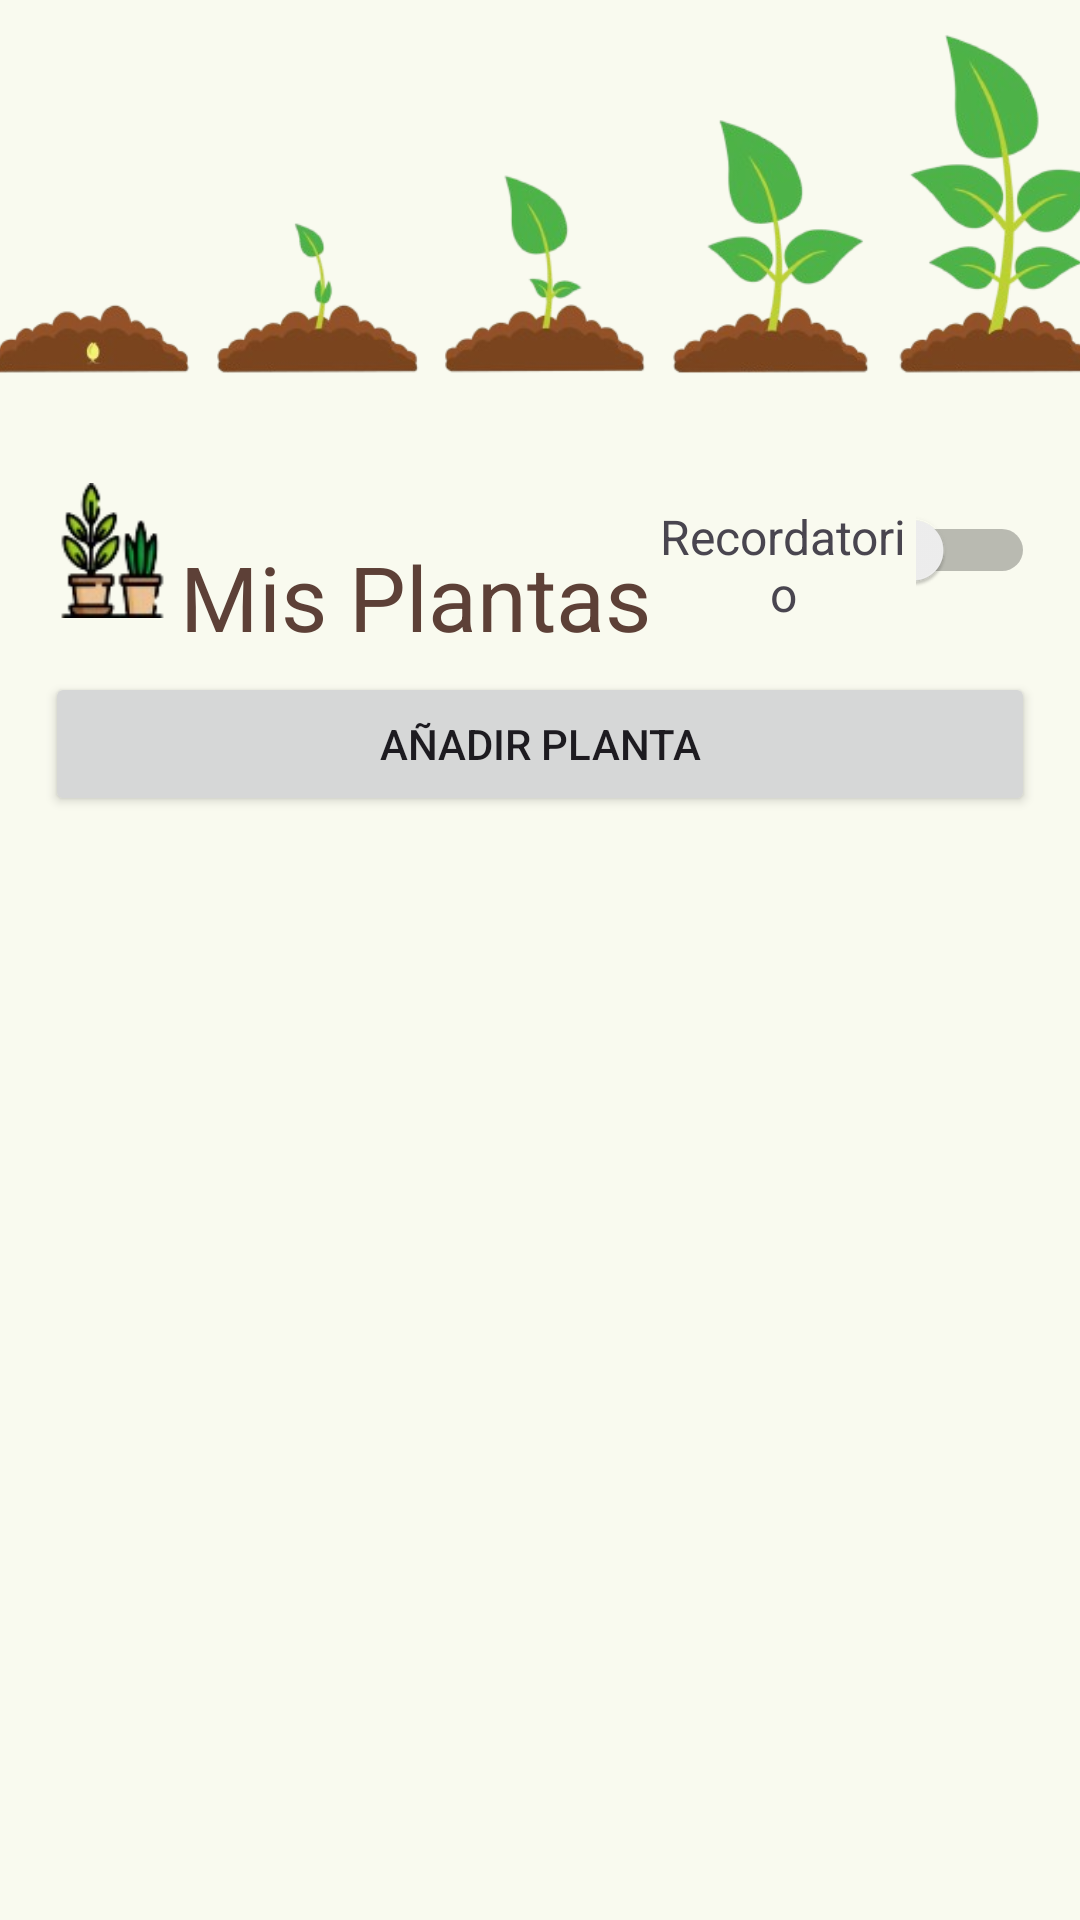

Icons on this 1080 × 1920 Android screen, each with its box as box(x1, y1, x2, y2):
imgplantas: box(61, 483, 164, 618)
